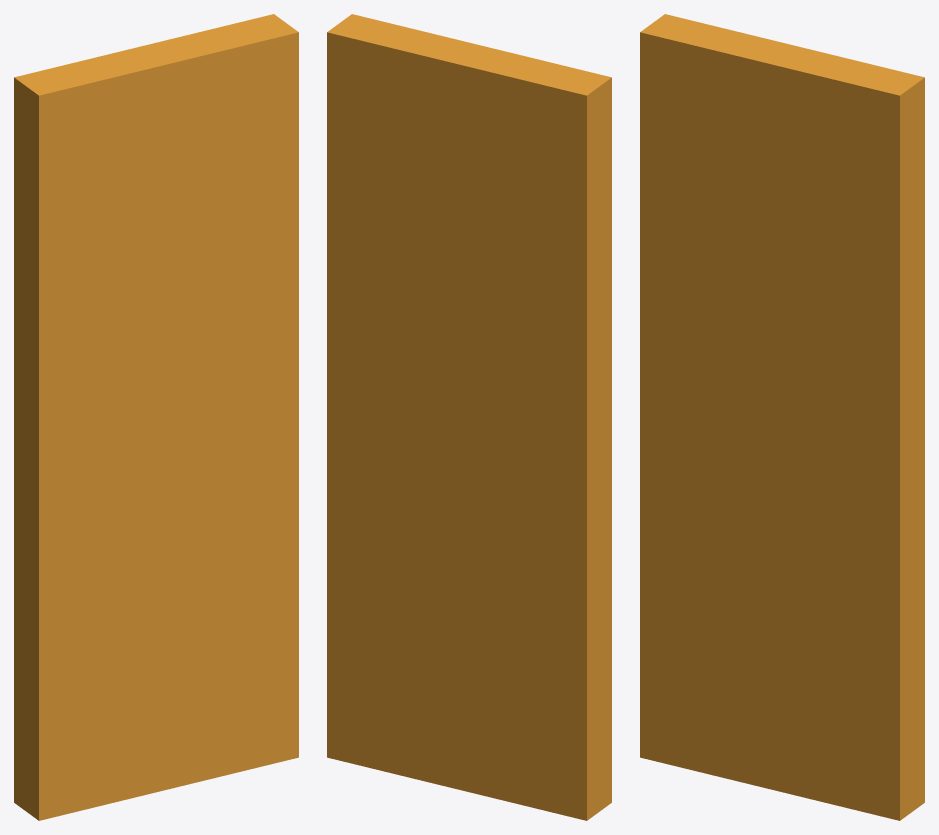
The model's file is SM_VLS.obj.
3 views of the same model, side by side, from view 1: azimuth 30°, elevation 25°; view 2: azimuth 150°, elevation 25°; view 3: azimuth 330°, elevation 25° (orthographic).
Bounding box in the file's own units: 1800 × 4800 × 300.
